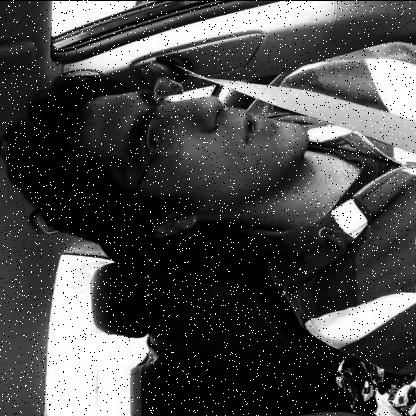seatbelt: (17, 72, 416, 250)
